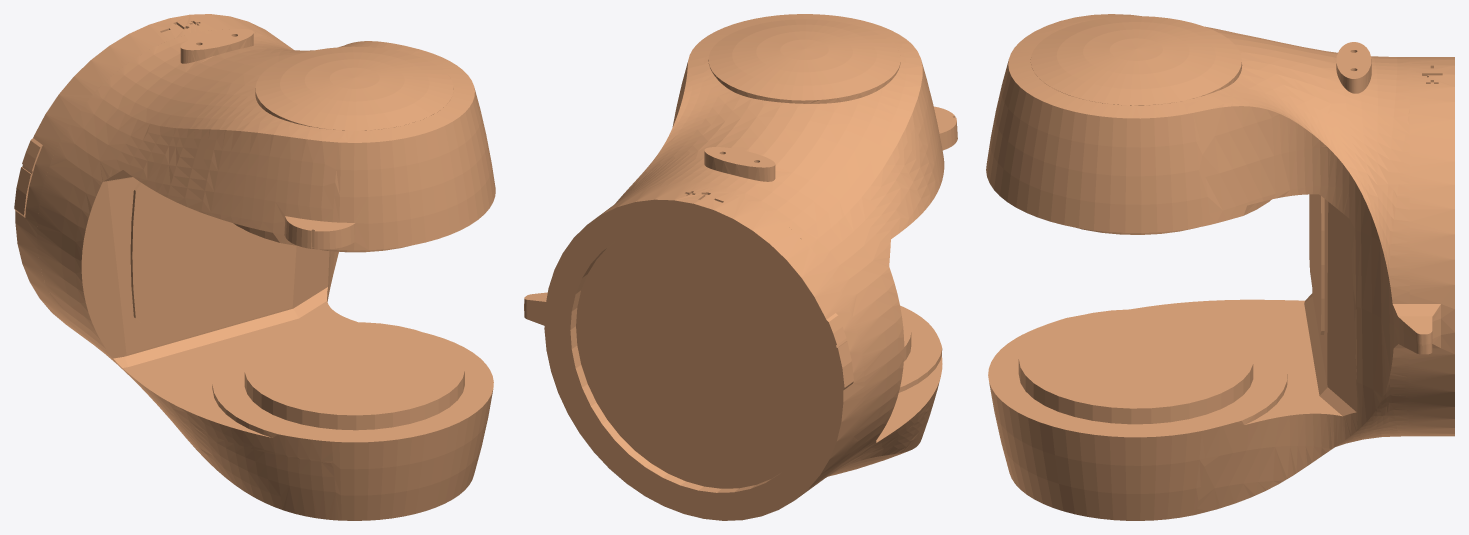
3 views of the same model, side by side, from view 1: azimuth 30°, elevation 25°; view 2: azimuth 150°, elevation 25°; view 3: azimuth 270°, elevation 25° (orthographic). The views are drawn at different scales.
Visible parts, largest first — view 1: /Link1/Link1-mesh/0; view 2: /Link1/Link1-mesh/0; view 3: /Link1/Link1-mesh/0.
Part boxes in pixels (x1,y1,x2,y2): /Link1/Link1-mesh/0: [14, 14, 495, 520]; /Link1/Link1-mesh/0: [524, 14, 957, 520]; /Link1/Link1-mesh/0: [986, 14, 1454, 520].
Size of the model in its own units: 0.2428 by 0.2759 by 0.2693.
